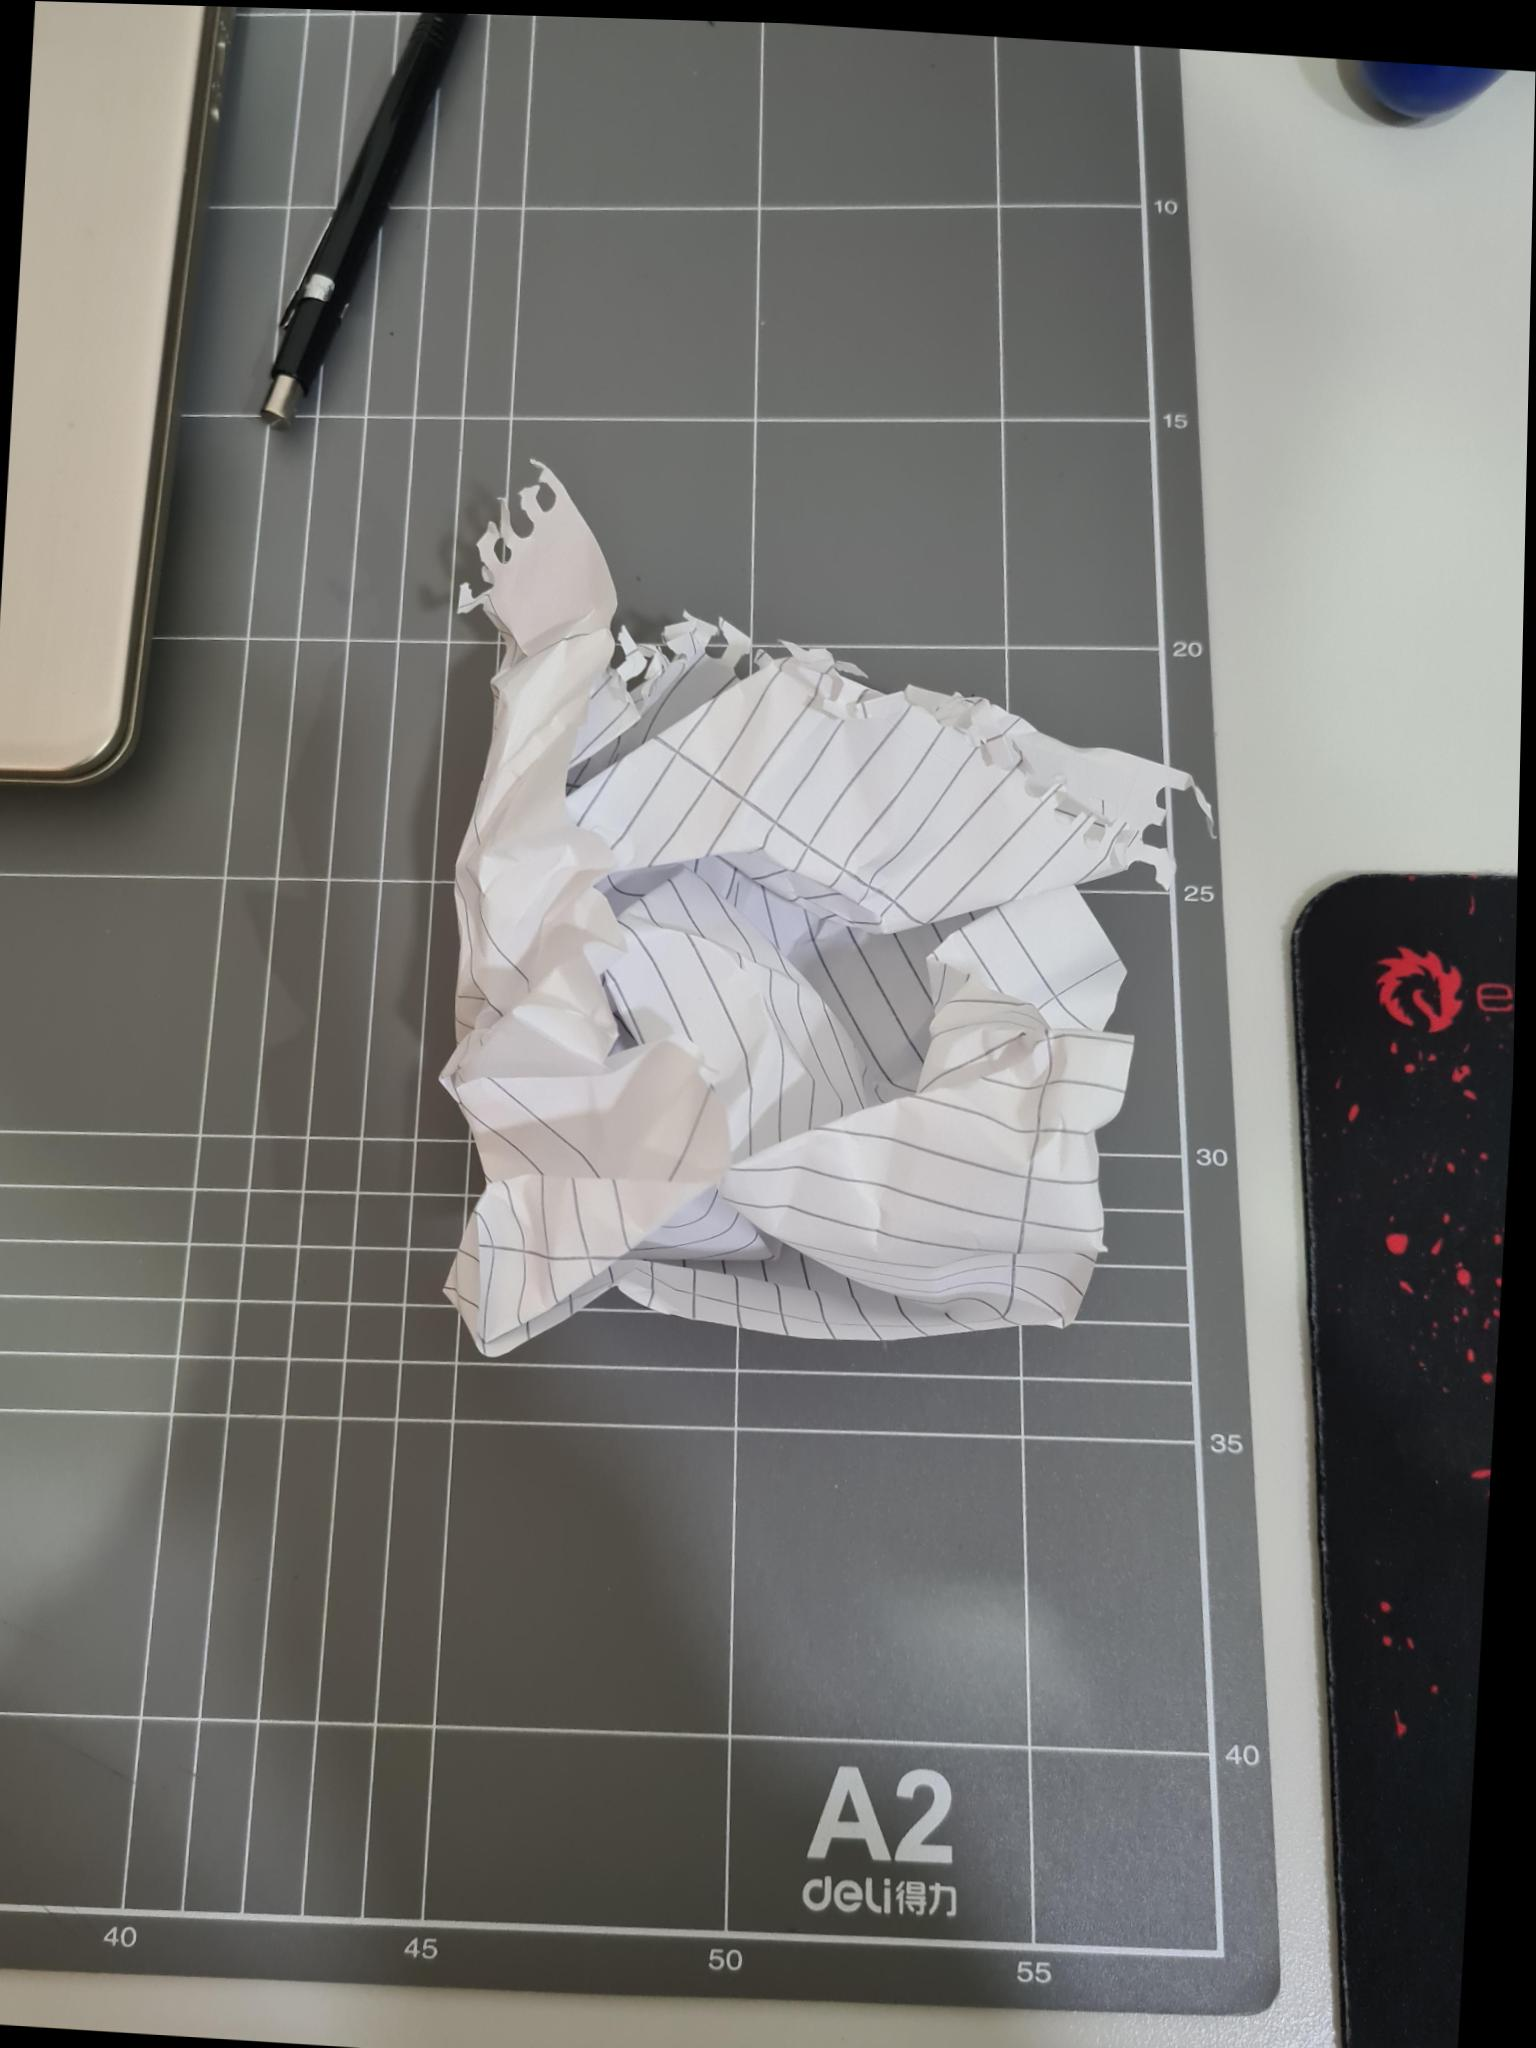paper: (402, 476, 1173, 1411)
